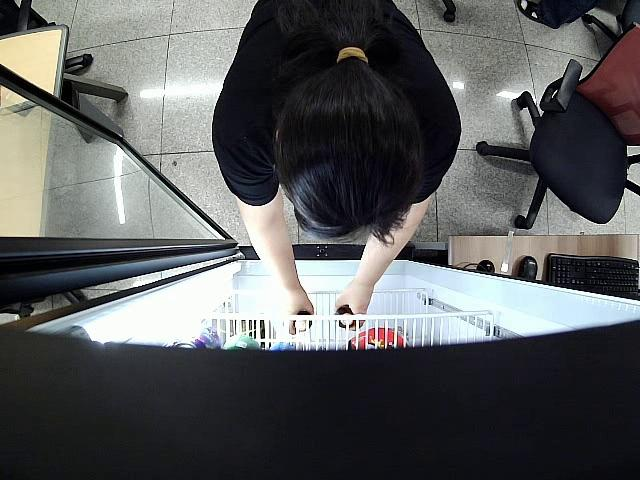00_hand: (334, 287, 372, 329), (279, 290, 314, 335)
17_vita500: (334, 303, 358, 329), (291, 309, 313, 333)
